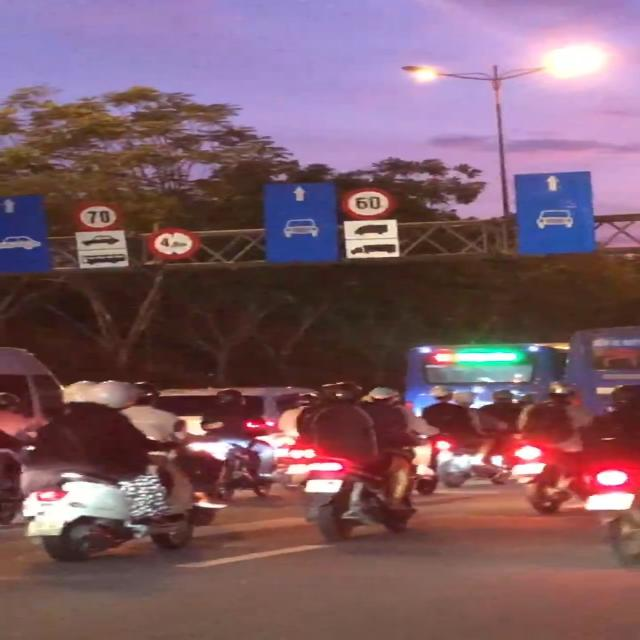Bien bao han che chieu cao: (147, 226, 199, 261)
